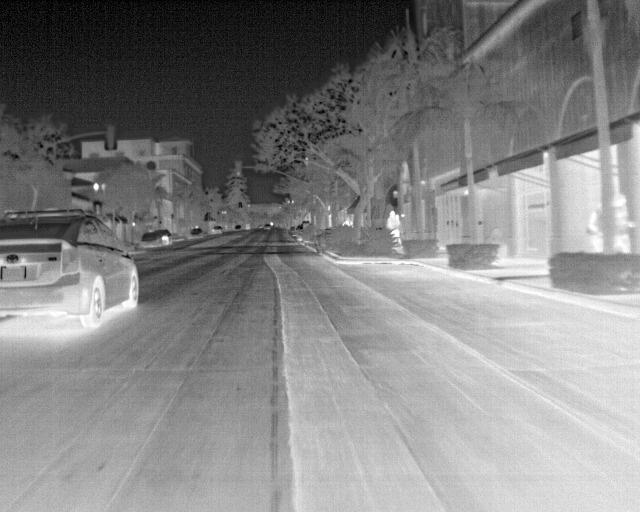bicycle: (1, 208, 143, 335), (137, 230, 158, 247), (152, 228, 171, 245), (187, 225, 205, 241), (208, 224, 224, 237)
empty: (611, 193, 634, 255), (584, 201, 605, 253), (384, 209, 401, 239)
